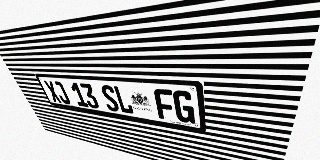1: (68, 82, 89, 107)
3: (79, 83, 100, 109)
F: (153, 88, 176, 121)
G: (172, 90, 195, 124)
J: (52, 81, 71, 105)
L: (113, 85, 134, 114)
S: (99, 85, 121, 112)
X: (43, 80, 62, 103)
